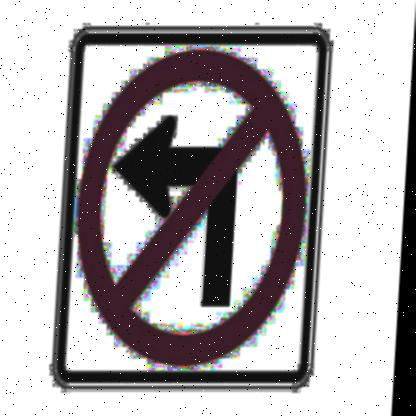No left turn: (67, 46, 323, 368)
